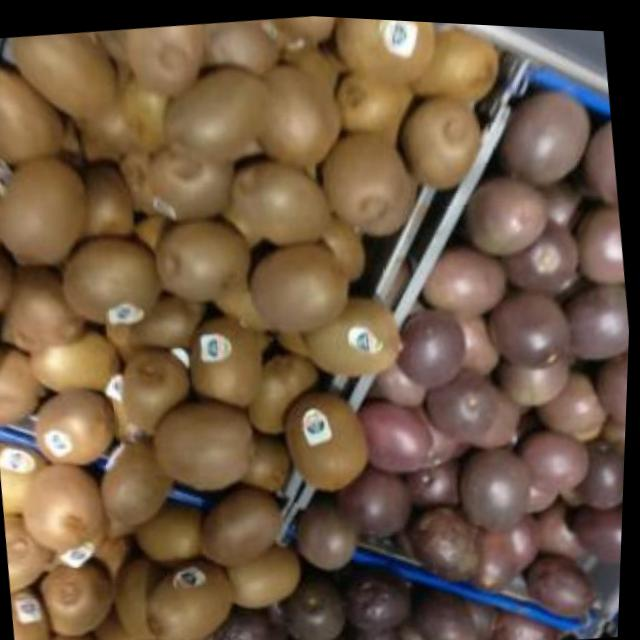Plum: (504, 76, 599, 176), (400, 494, 491, 595), (459, 170, 563, 254), (451, 437, 539, 529), (514, 411, 606, 499), (488, 277, 579, 364), (355, 389, 434, 474), (422, 360, 505, 439), (562, 276, 633, 355), (571, 198, 629, 285), (565, 489, 626, 560), (593, 340, 631, 433)
